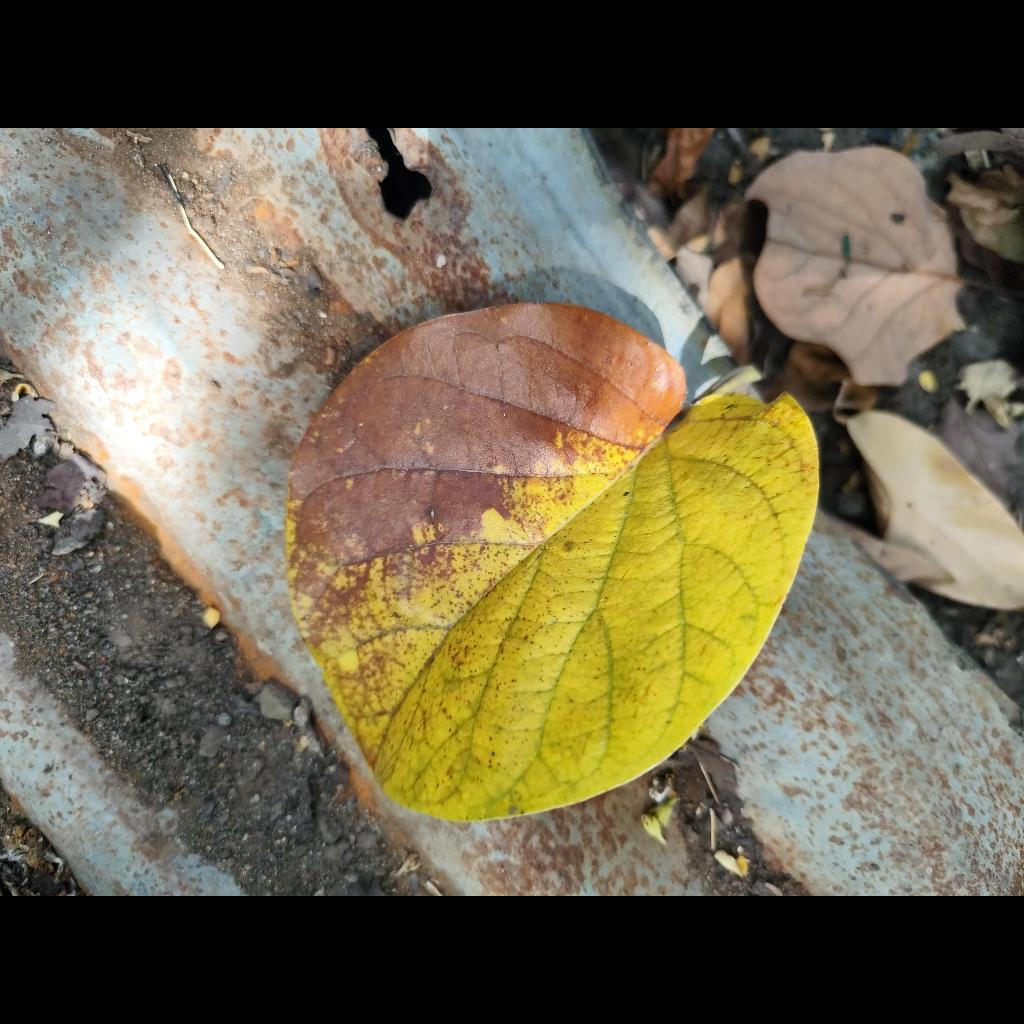nutrient_deficiency: (285, 304, 817, 821)
